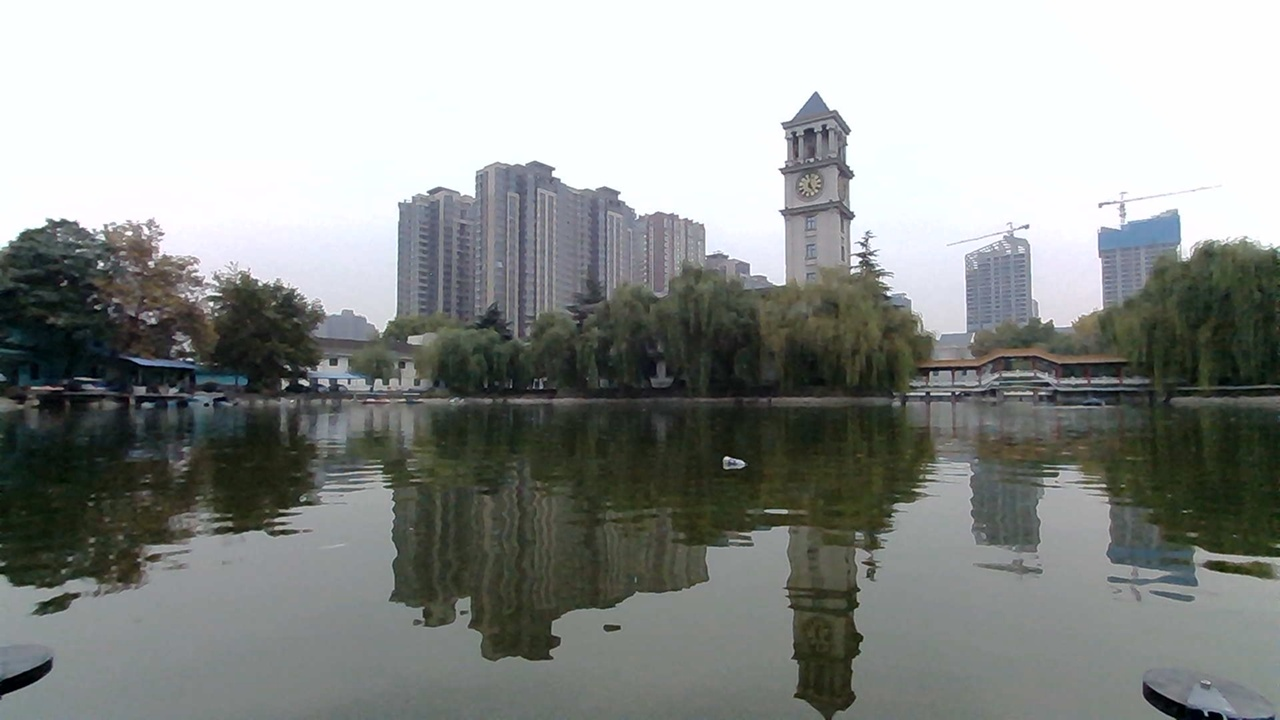bottle: (713, 445, 752, 475)
